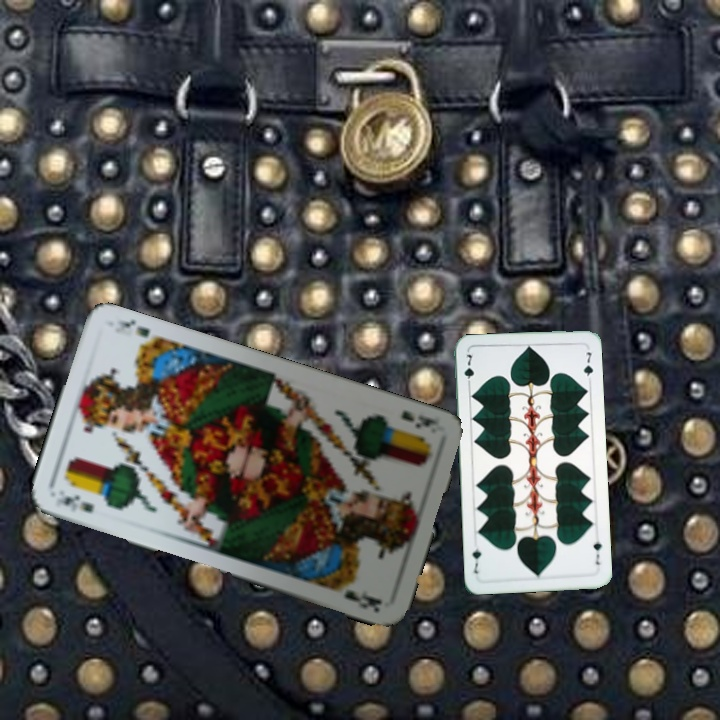EK: (397, 407, 442, 431), (56, 492, 96, 515)
G7: (460, 350, 477, 390), (589, 537, 604, 567)
